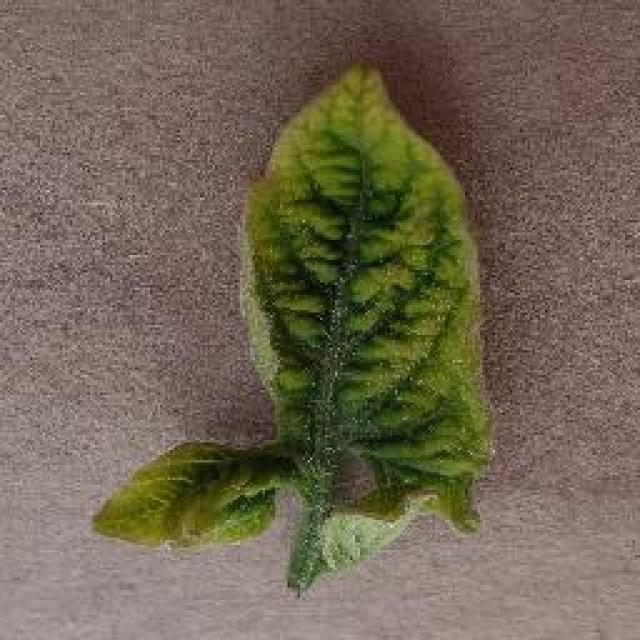Tomato yellow virus leaf: (234, 61, 521, 491), (88, 444, 288, 554)
